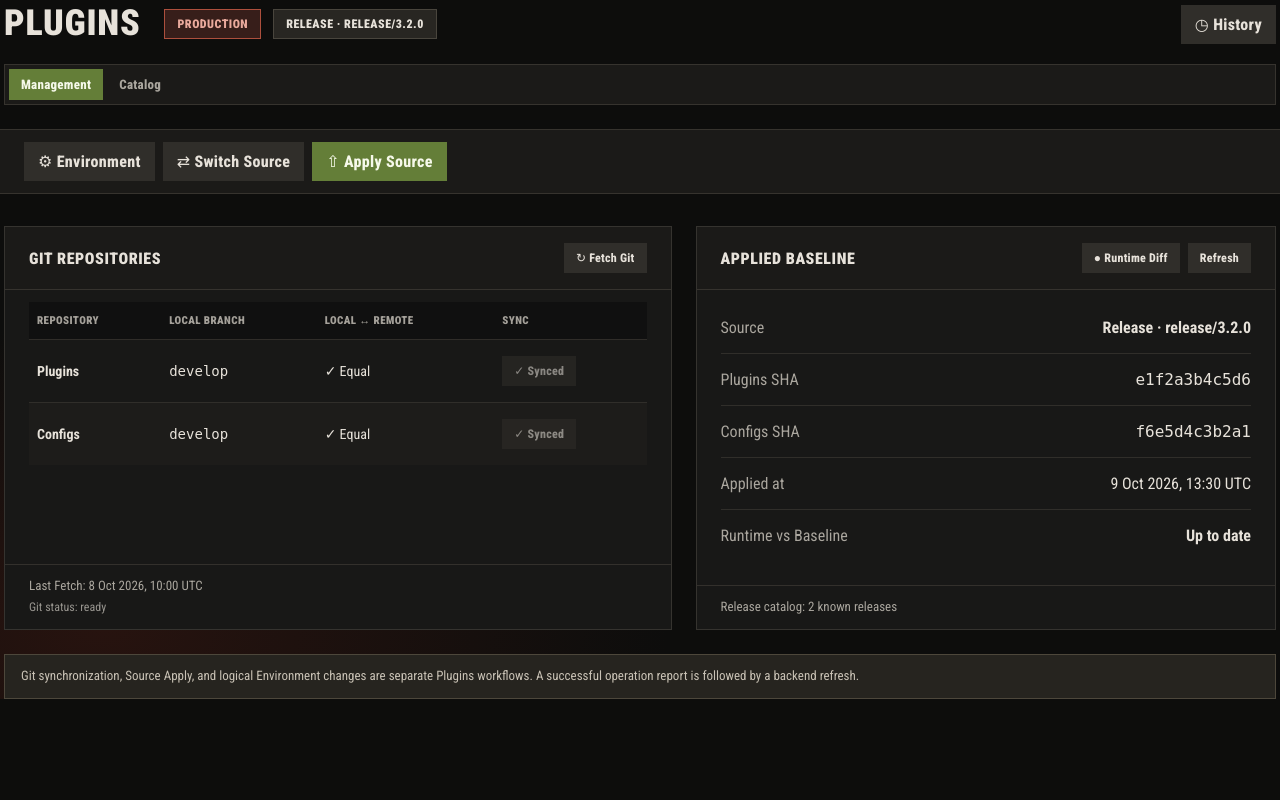
Test: Plugins management workflows › shows complete and incomplete releases, including the missing repository, without making incomplete releases selectable
The image size is (1280, 800).
Step 1. Click the button "⇄ Switch Source" → x=233, y=162, box [163,142,304,181]
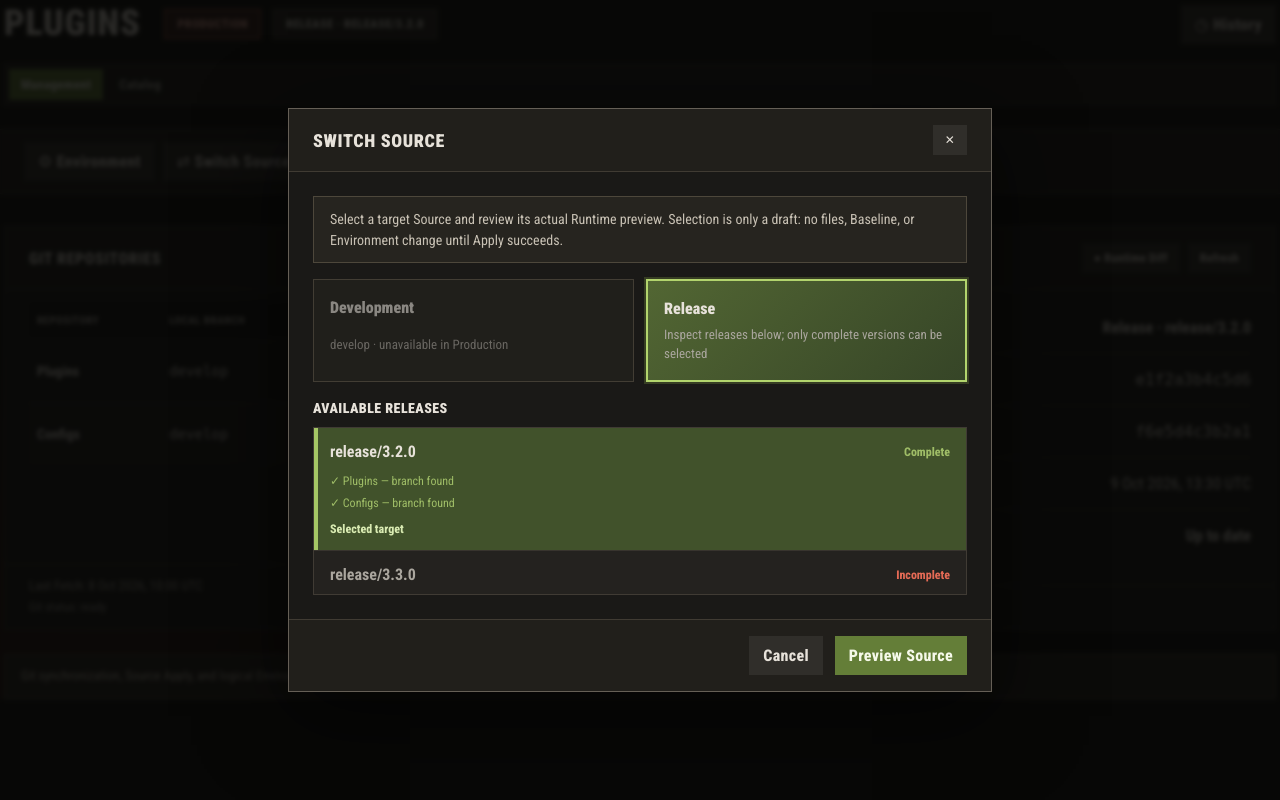
Result: the text "Complete" is shown at [904,443,950,461]
Result: the text "Incomplete" is shown at [896,566,950,584]
Result: the text "✓ Plugins — branch found" is shown 2 times
